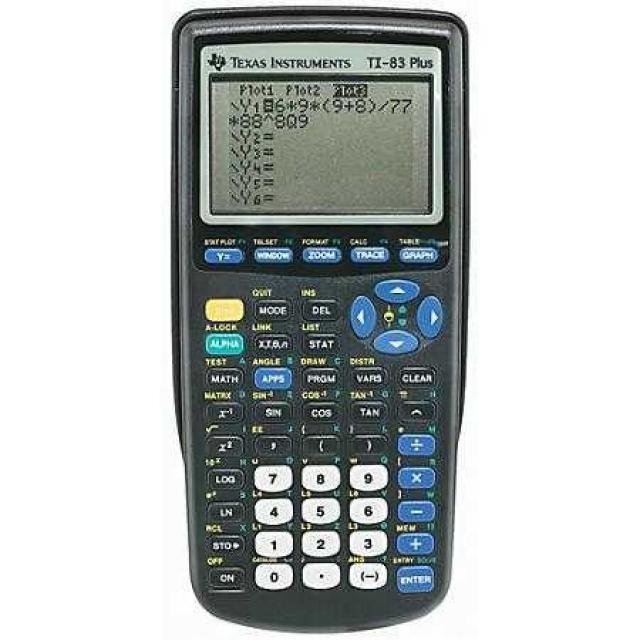Calculator: (170, 4, 470, 633)
